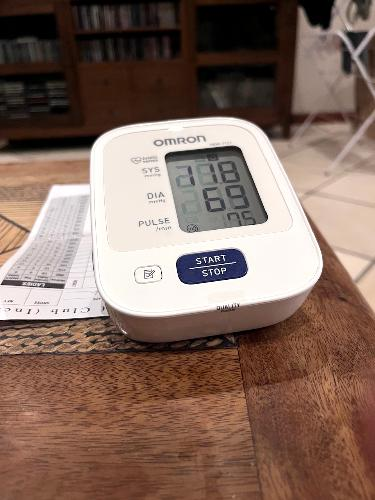bpm: (163, 130, 274, 243)
